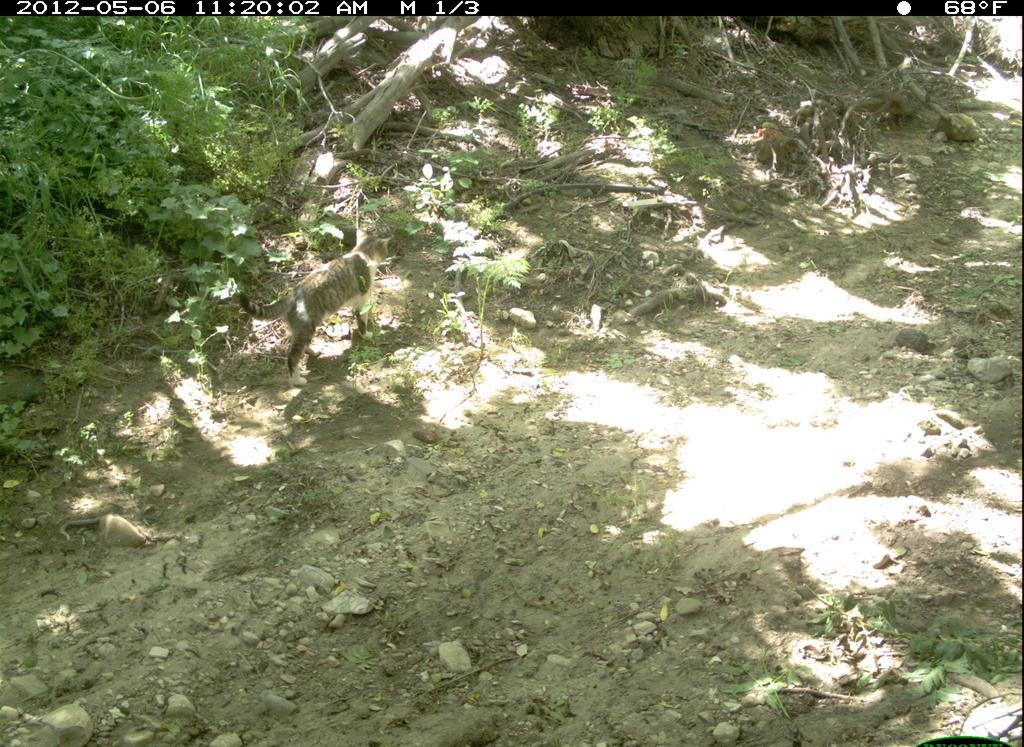cat: (228, 226, 399, 382)
